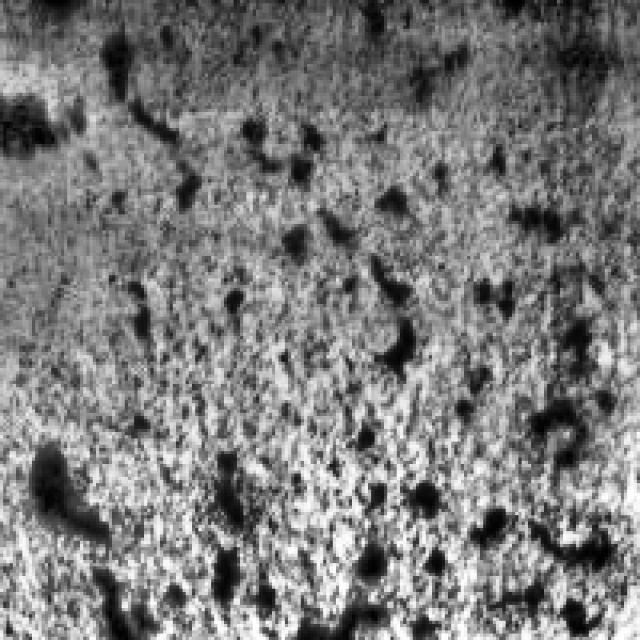Rolled_in_Scale: (96, 22, 528, 589), (461, 3, 624, 634)
Scratches: (12, 428, 116, 548), (0, 76, 90, 166)
